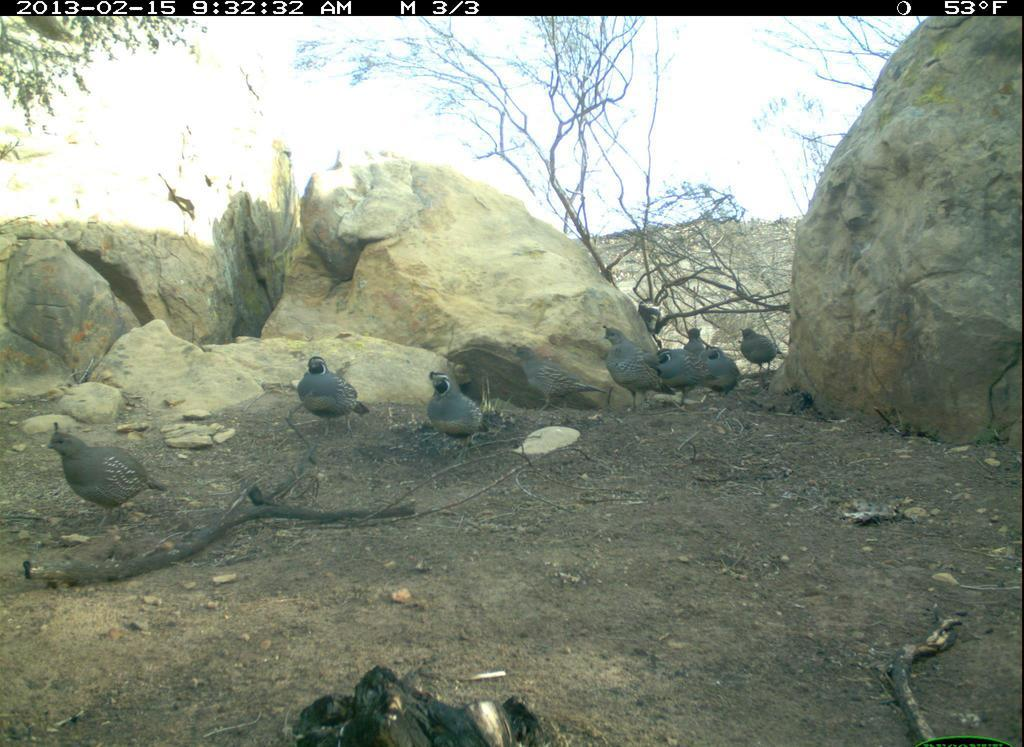bird: (40, 412, 173, 537), (510, 338, 614, 419), (291, 348, 374, 441), (423, 364, 498, 463), (600, 322, 675, 415), (655, 340, 722, 397), (699, 342, 747, 401), (737, 326, 788, 376), (682, 325, 708, 358)
